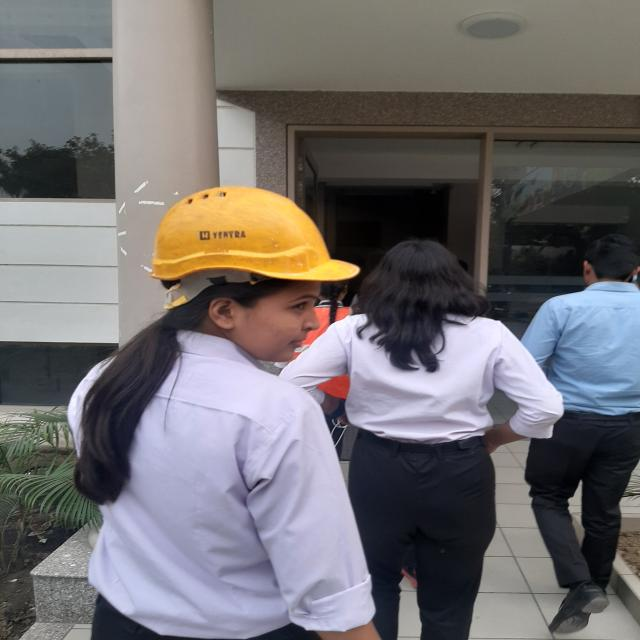no jacket: (84, 184, 398, 640)
unsafe: (323, 234, 547, 640), (517, 231, 640, 636)
